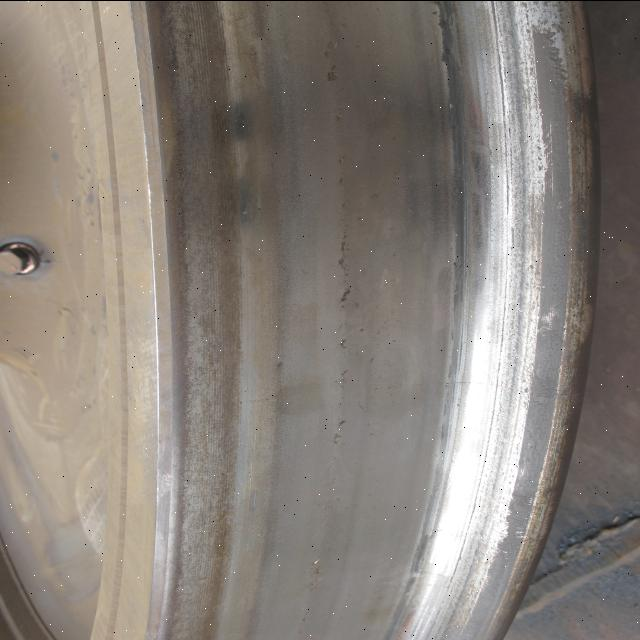boli: (312, 61, 348, 89)
